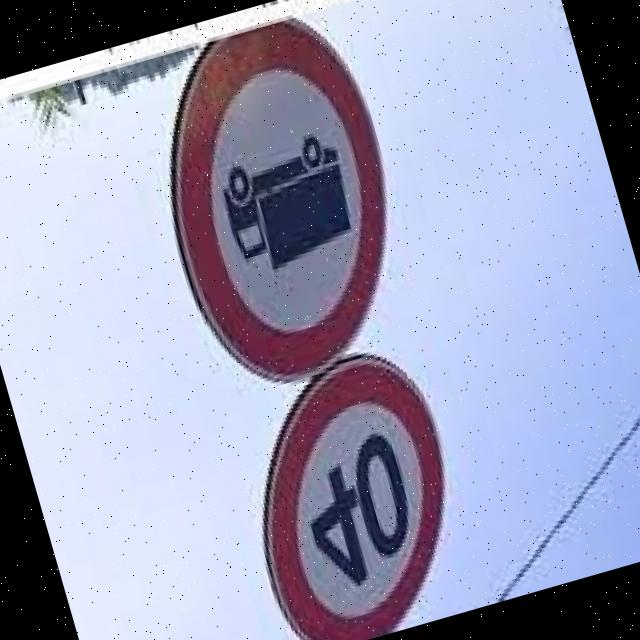do_not_enter: (111, 0, 453, 415)
